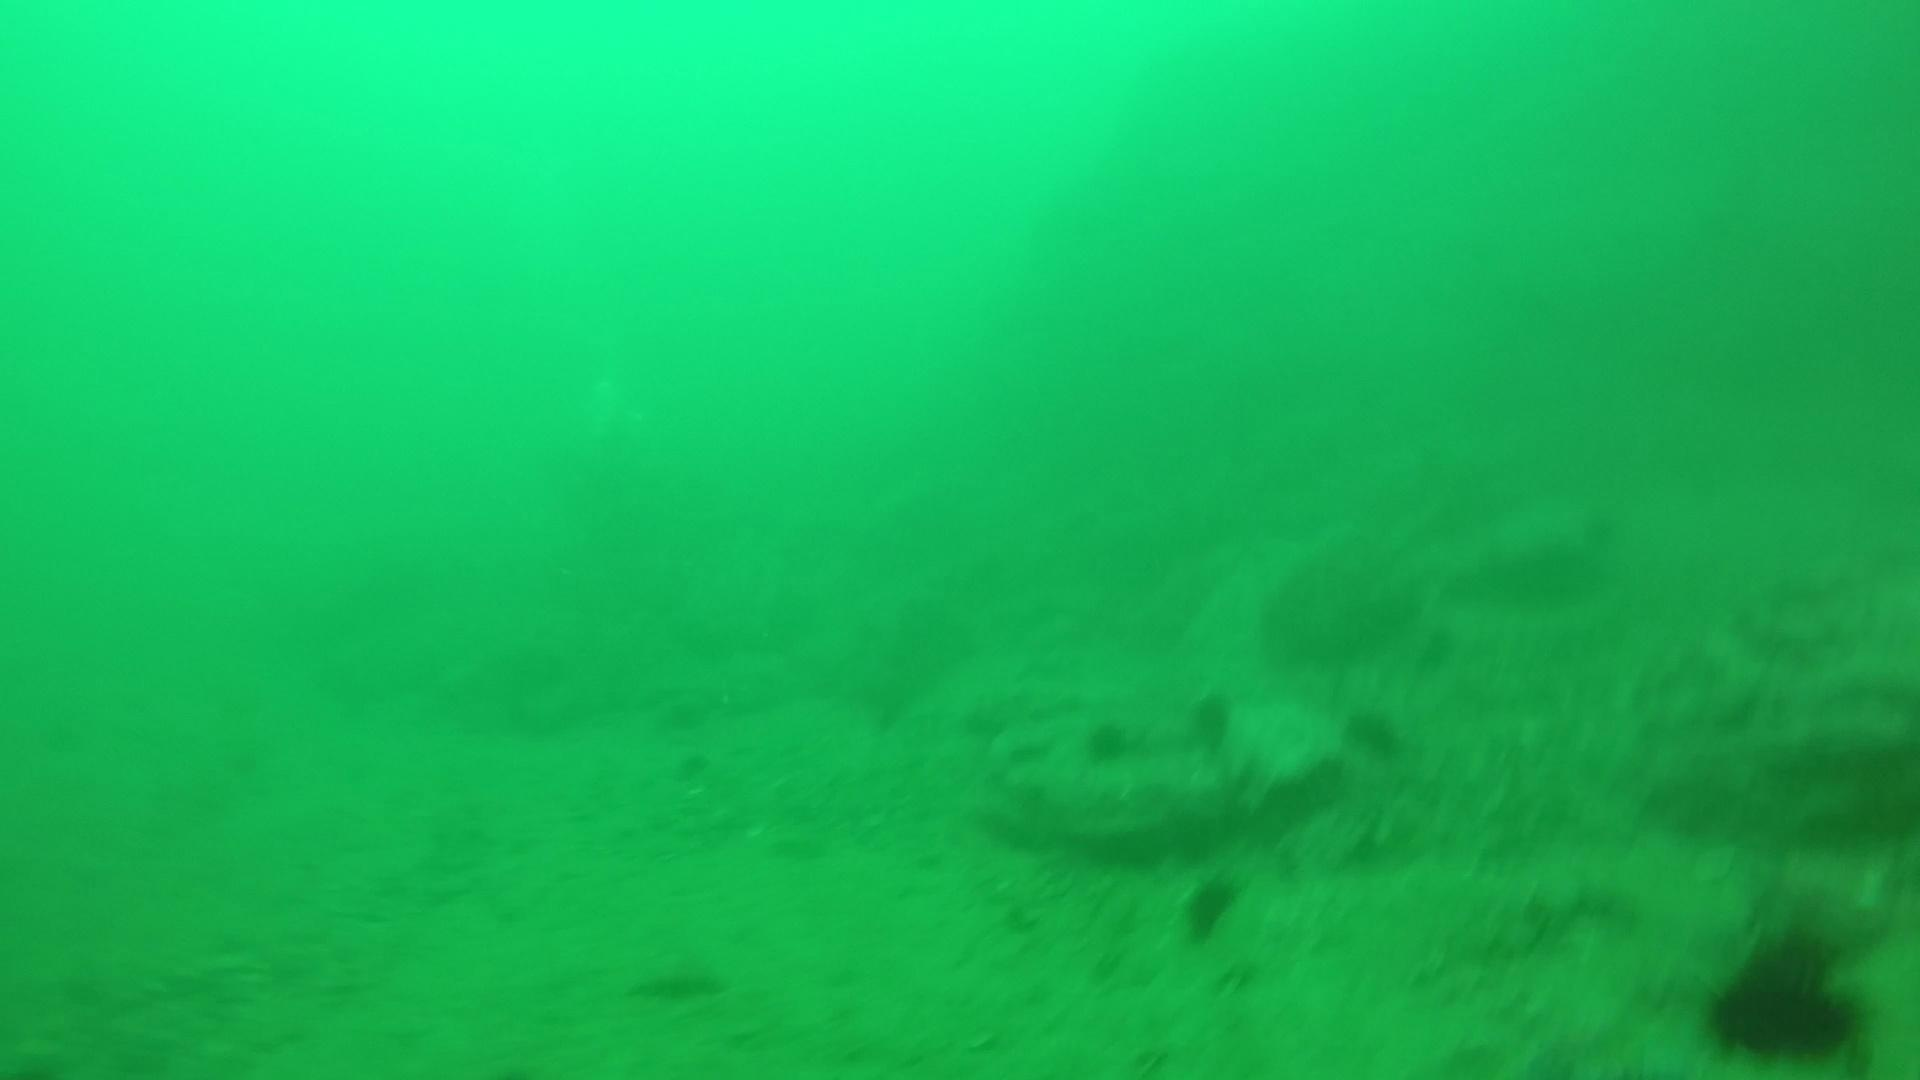echinus: (1698, 928, 1871, 1068), (1174, 869, 1246, 945), (1338, 702, 1408, 764), (1182, 686, 1241, 753), (1077, 713, 1137, 769)
